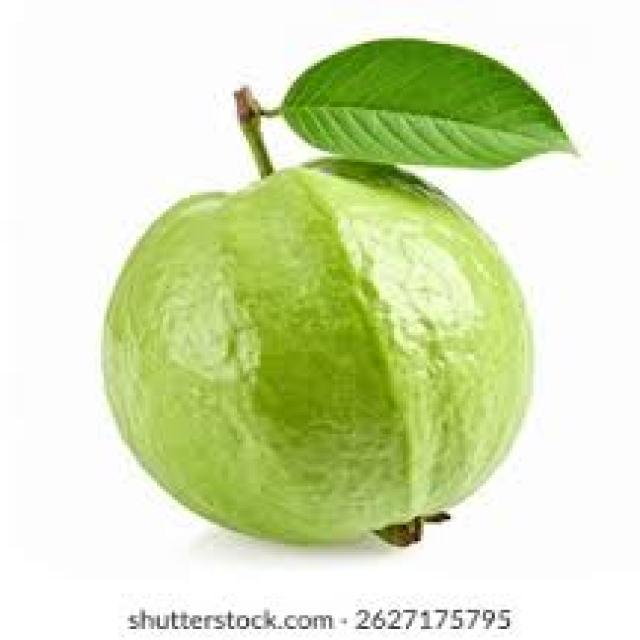Guava: (137, 196, 506, 536)
